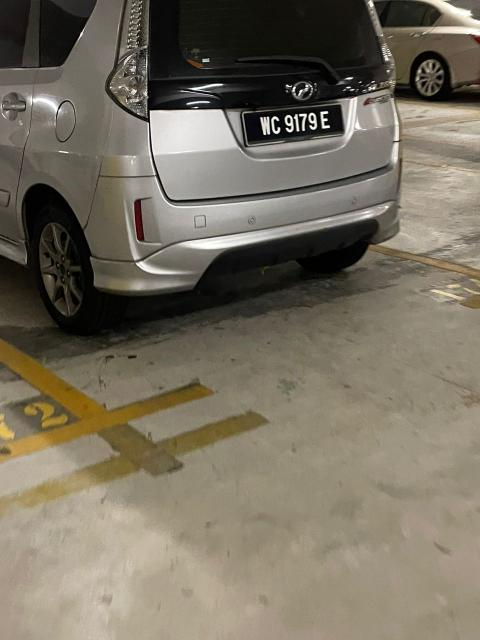License_Plate: (253, 106, 339, 143)
car: (1, 1, 421, 339)
